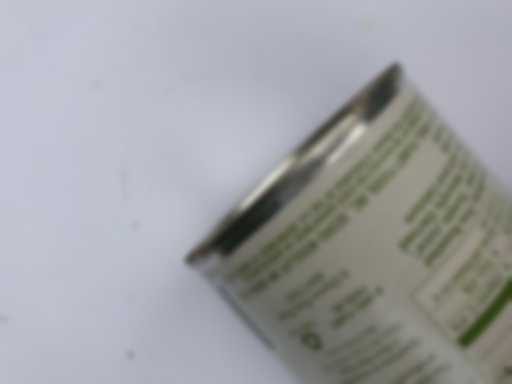can_s: (190, 61, 512, 384)
